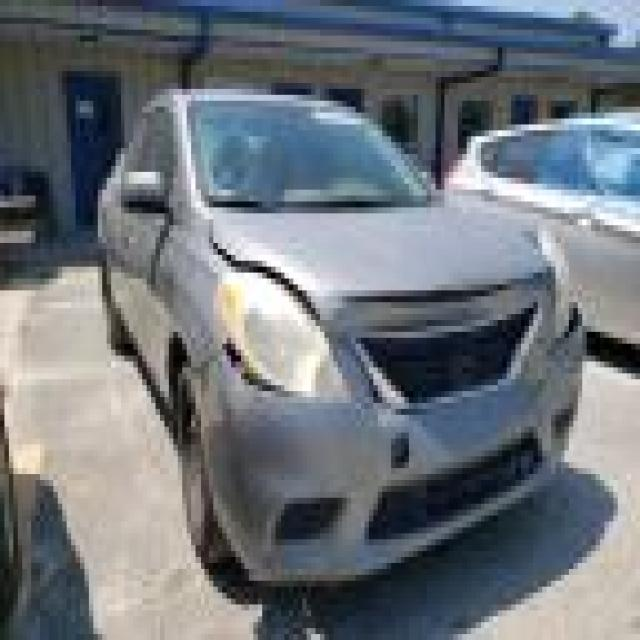minor: (198, 200, 359, 434)
